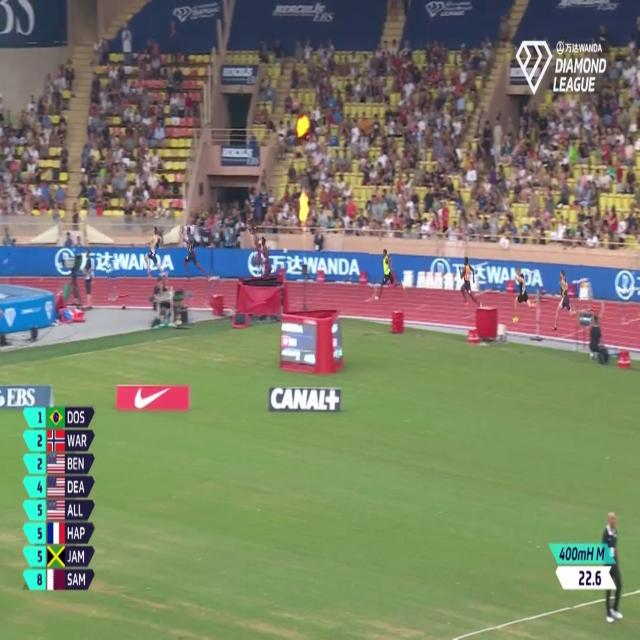athlete: (370, 243, 408, 304), (184, 226, 208, 290), (144, 222, 170, 275), (249, 218, 265, 275), (262, 234, 276, 281)
hurdle: (105, 258, 128, 305), (616, 283, 640, 328), (576, 271, 593, 322), (204, 270, 222, 308)
